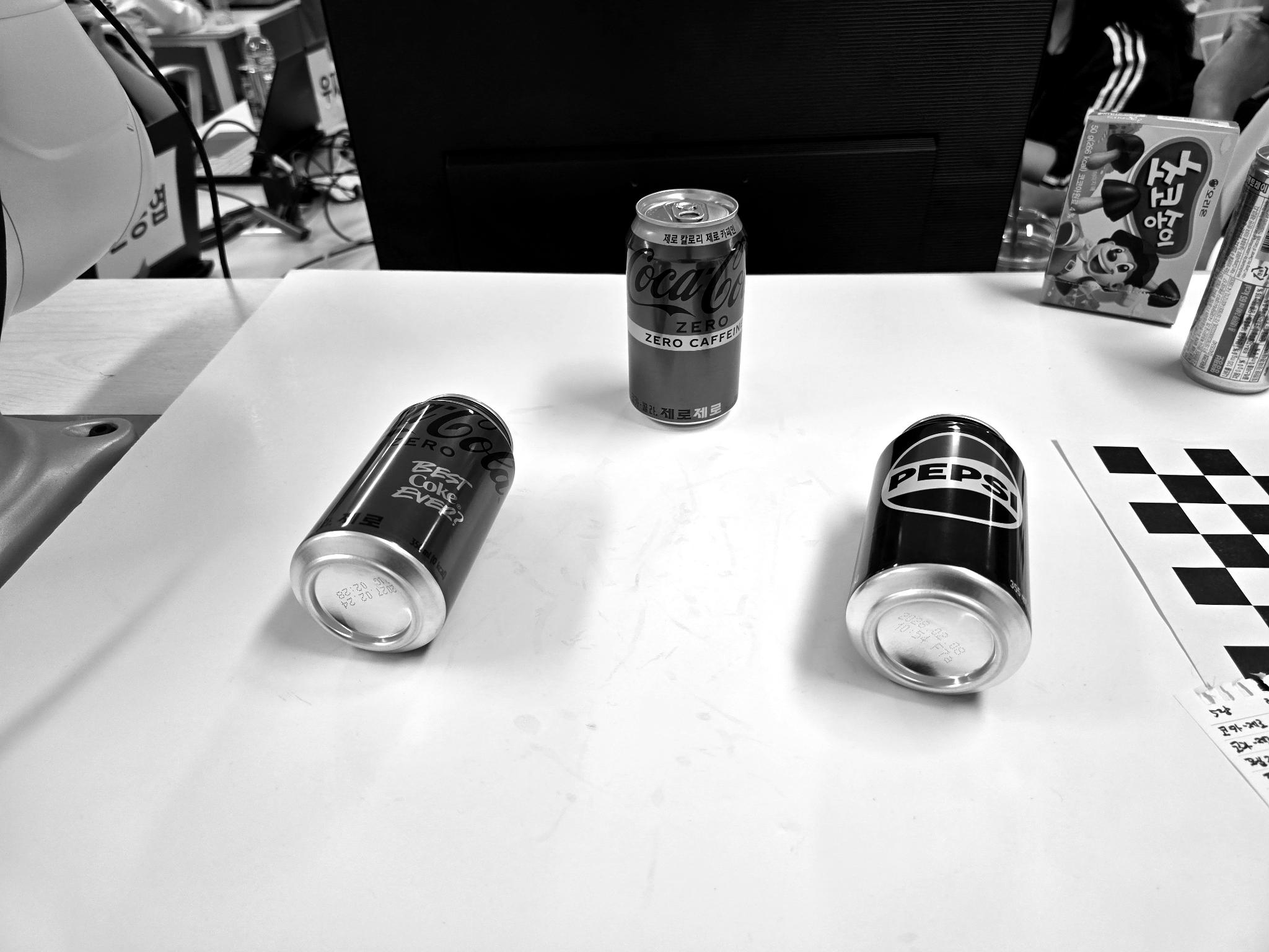can_coke_decaf: (627, 186, 749, 432)
can_coke_zero: (293, 391, 526, 657)
can_pepsi: (843, 415, 1034, 695)
